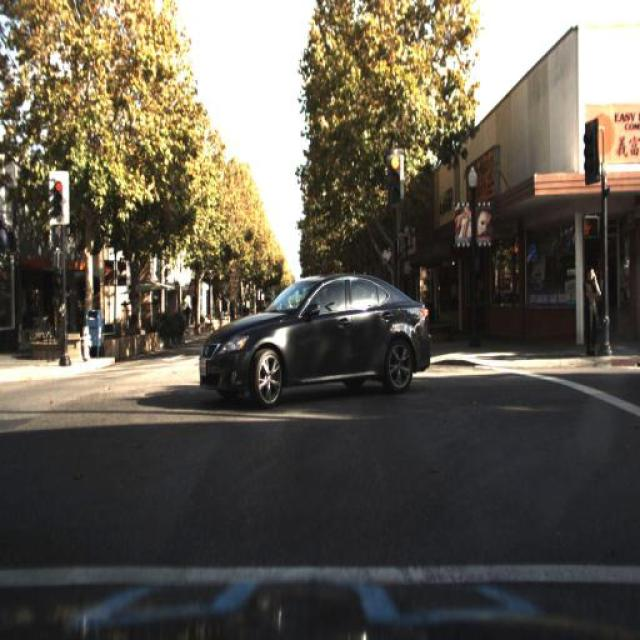car: (197, 264, 439, 408)
trafficLight: (578, 264, 604, 362), (581, 261, 604, 360)
trafficLight-RedLeft: (386, 150, 402, 205), (50, 171, 66, 223)
